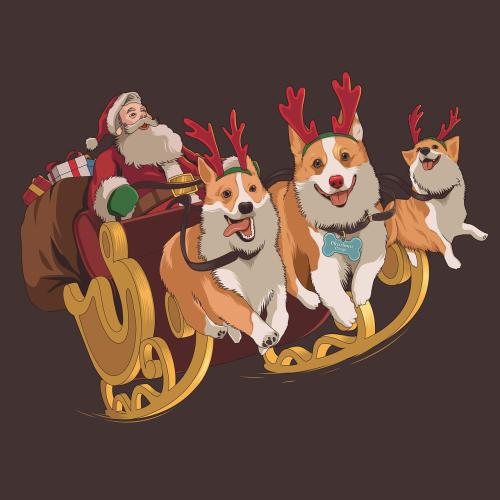Santa: (81, 88, 206, 224)
